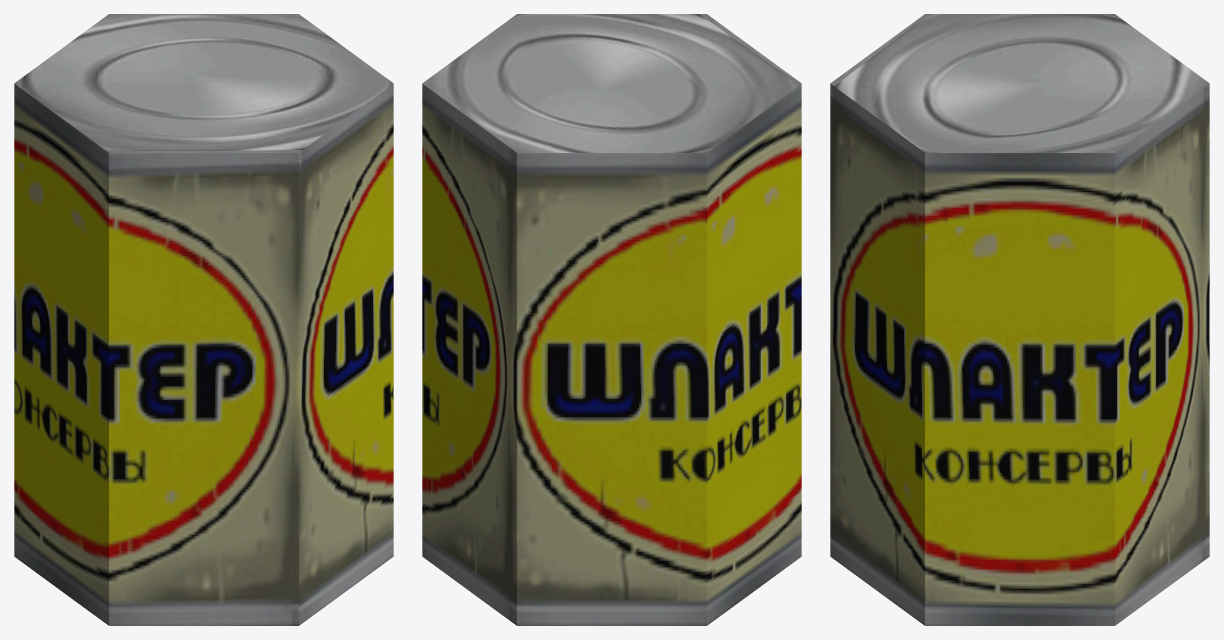
The model's file is Can_model_4_3005.glb.
The picture shows the model from 3 angles, left to right: view 1: azimuth 30°, elevation 25°; view 2: azimuth 150°, elevation 25°; view 3: azimuth 270°, elevation 25°; orthographic projection.
Visible parts, largest first — view 1: Can_model_4; view 2: Can_model_4; view 3: Can_model_4.
Boxes of the visible parts, x1=… form: Can_model_4: x1=14, y1=14, x2=393, y2=625; Can_model_4: x1=422, y1=14, x2=801, y2=625; Can_model_4: x1=830, y1=14, x2=1209, y2=625.
Size of the model in its own units: 0.0173 by 0.0275 by 0.02.
Materials: 1 (1 with a texture image).
